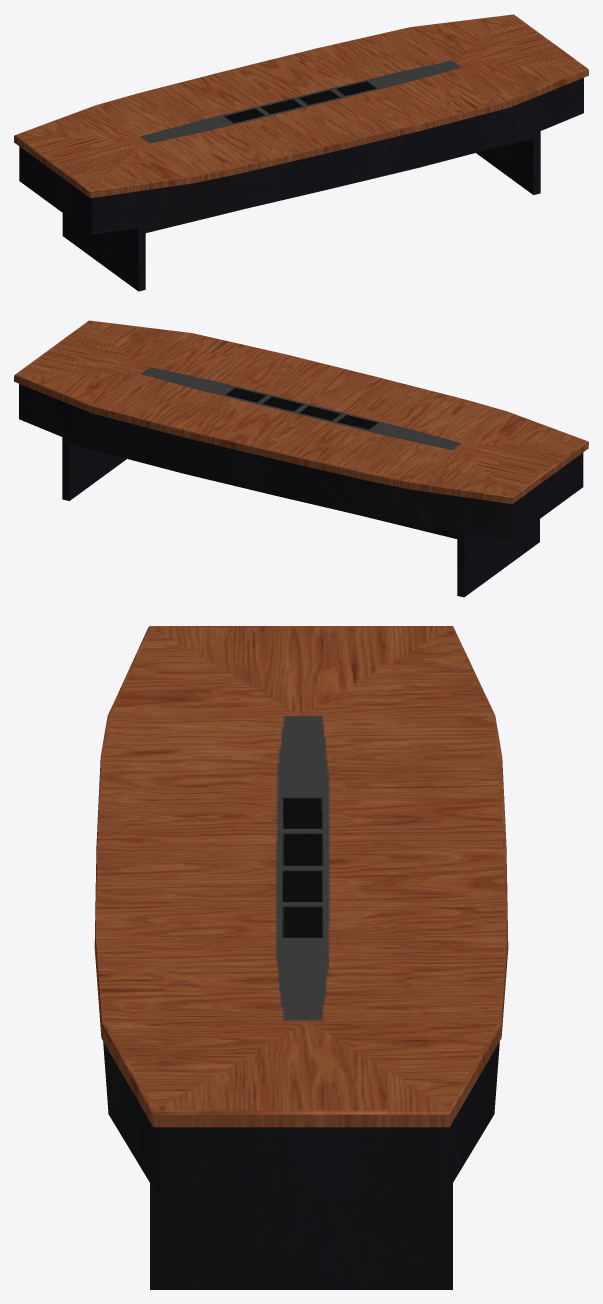
Rendered from SSN_Table meeting.fbx.
3 renders of one model, top to bottom at view 1: azimuth 30°, elevation 25°; view 2: azimuth 150°, elevation 25°; view 3: azimuth 270°, elevation 25°, orthographic. The views are drawn at different scales.
Parts seen in each view (by area): view 1: SSN_Tablemeeting_LP; view 2: SSN_Tablemeeting_LP; view 3: SSN_Tablemeeting_LP.
Part boxes in pixels (x1=…): SSN_Tablemeeting_LP: x1=14, y1=14, x2=588, y2=291; SSN_Tablemeeting_LP: x1=14, y1=320, x2=588, y2=597; SSN_Tablemeeting_LP: x1=94, y1=626, x2=508, y2=1289.
Size of the model in its own units: 0.9912 by 0.2131 by 0.3552.
